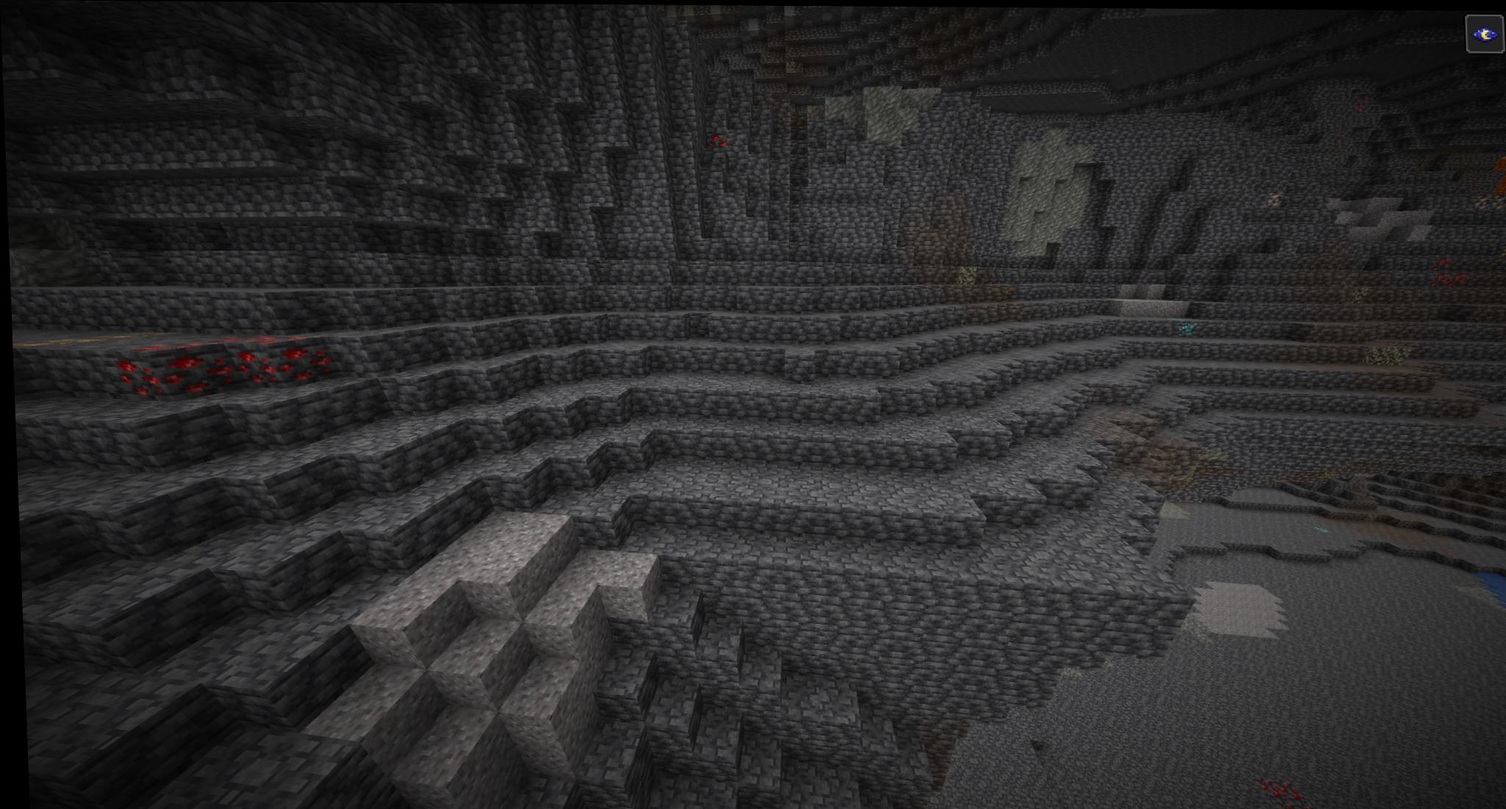diamond ore: (1170, 311, 1200, 337)
redstone ore: (113, 339, 229, 396), (233, 330, 326, 386), (1254, 775, 1301, 809), (1425, 257, 1467, 292), (700, 131, 729, 151)
